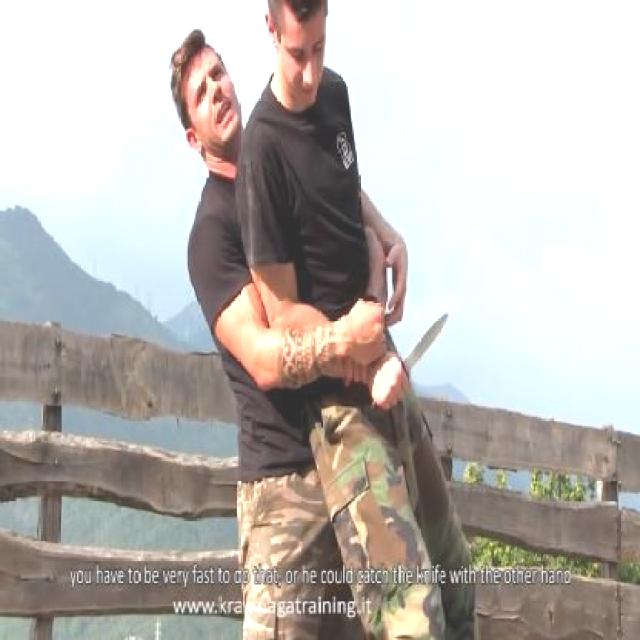knife: (370, 305, 456, 409)
